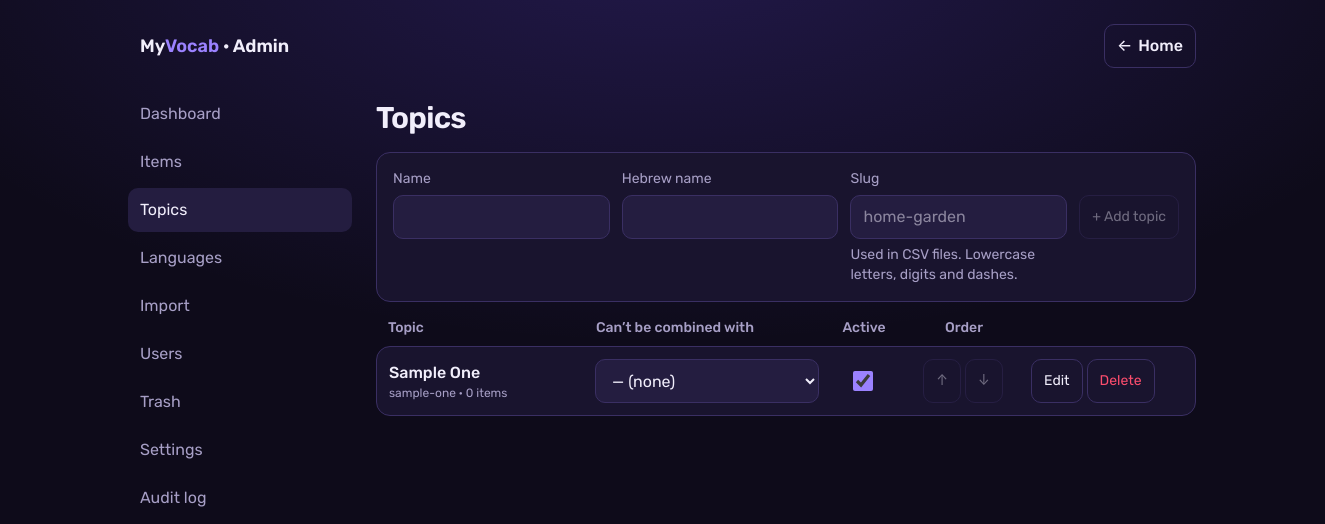
Test: TopicsPage add form (FR-A30) › asks for a slug when the name has no English letters
The image size is (1325, 524).
Expected: the text "Sample One" is shown, [389,363,480,382]
Type "אוכל" into the field labelled "Name".
click(501, 217); type("אוכל")  # box [393,195,610,239]
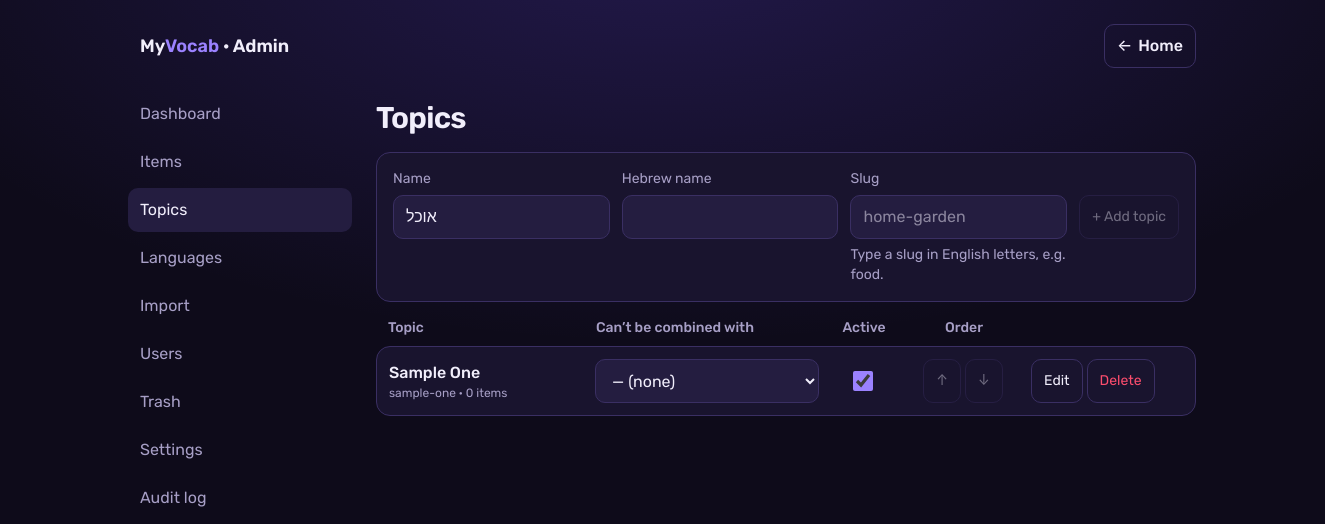
Expected: the field labelled "Slug" is empty, [850,195,1067,239]
Now the text "Type a slug in English letters, e.g. food." is shown, box [850,245,1067,285]
